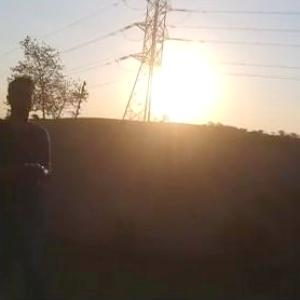follow: (0, 70, 62, 299)
